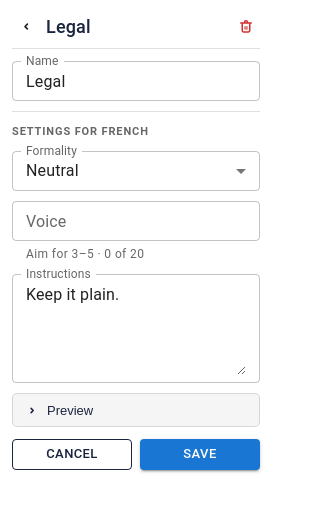
the form's two ways out (contract: the armed delete and the discard prompt are two footers, and only one of them can be the way out at a time) › disarms the delete when the discard prompt takes over, so keeping editing lands on the normal footer
Expected: the field labelled "Name" is shown, [12,61,260,101]
// something changed, so leaving will ask
Replace the text in the text box labelled "Instructions" with "Keep it very plain." at (136, 329), box [26,283,246,375]
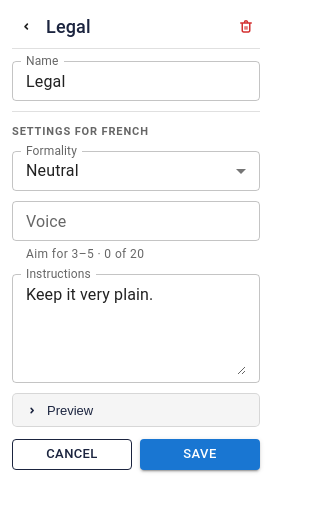
// the delete is armed, and then abandoned in favour of leaving
Click the button named "Delete".
click(246, 26)  # box [232,12,260,40]
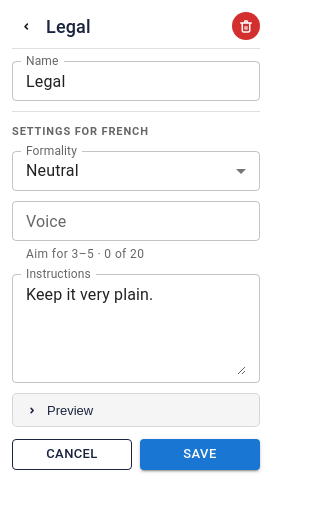
Now the button named "Delete for all languages?" is shown, box [232,12,260,40]
Click the button named "Back to style presets".
click(26, 26)  # box [12,12,40,40]
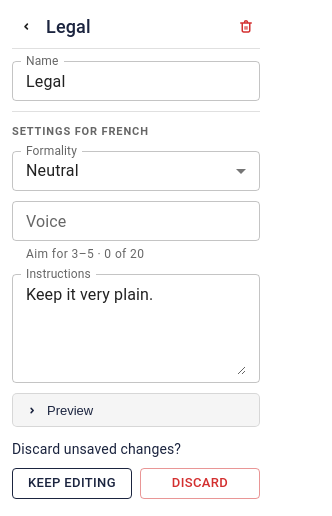
Now the text "Discard unsaved changes?" is shown, box [12,441,181,457]
Click the button "Keep editing".
click(72, 484)  # box [12,468,132,499]
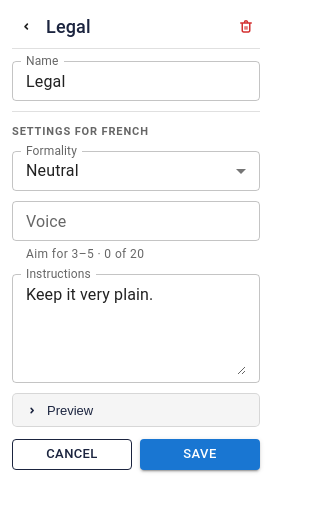
Expected: the button "Delete for all languages?" is not shown
Now the button "Save" is shown, box [140,439,260,470]
Now the button "Cancel" is shown, box [12,439,132,470]
